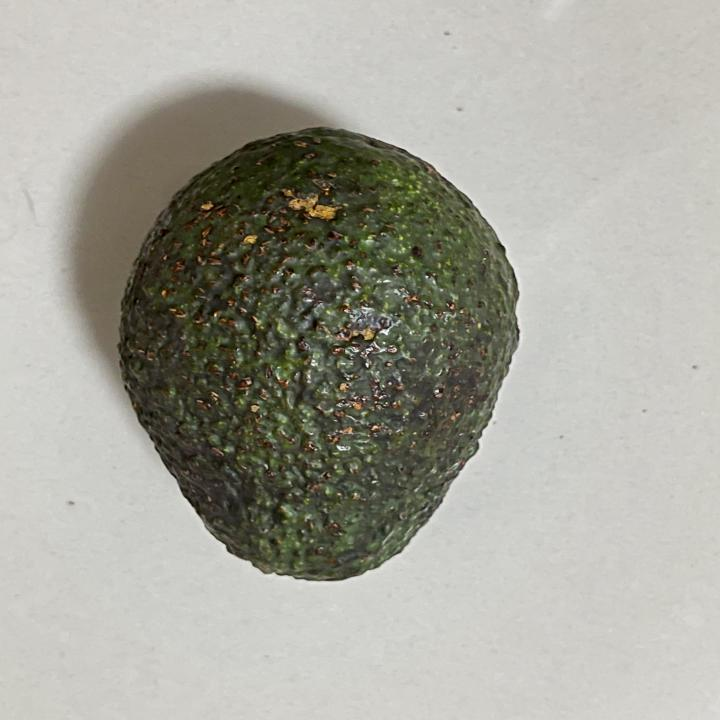Level1: (97, 117, 538, 602)
